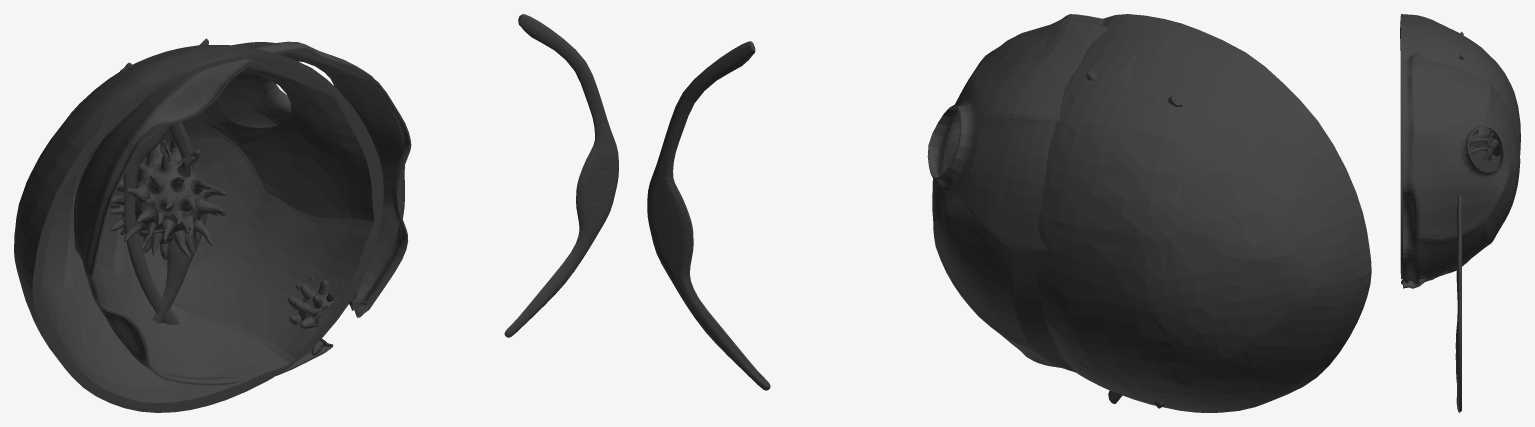
The model's file is sharedassets61.glb.
The picture shows the model from 3 angles, left to right: view 1: azimuth 30°, elevation 25°; view 2: azimuth 150°, elevation 25°; view 3: azimuth 270°, elevation 25°; orthographic projection. The views are drawn at different scales.
Visible parts, largest first — view 1: 0007_Alveolus__302534, 0003_Surfactant__302530, 0005_Type II alveolar cell__302532, 0004_Type I alveolar cell_3_302531, 0000_Type I alveolar cell_2_302527, 0001_Type I alveolar cell__302528; view 2: 0007_Alveolus__302534, 0003_Surfactant__302530, 0004_Type I alveolar cell_3_302531; view 3: 0003_Surfactant__302530, 0007_Alveolus__302534, 0004_Type I alveolar cell_3_302531, 0005_Type II alveolar cell__302532, 0002_Capillary bed__302529.
Boxes of the visible parts, x1,y1,x2,y2 form: 0007_Alveolus__302534: (14, 45, 383, 412); 0003_Surfactant__302530: (73, 41, 411, 385); 0005_Type II alveolar cell__302532: (109, 137, 226, 259); 0004_Type I alveolar cell_3_302531: (504, 14, 618, 337); 0000_Type I alveolar cell_2_302527: (123, 38, 208, 324); 0001_Type I alveolar cell__302528: (120, 62, 208, 323); 0007_Alveolus__302534: (1037, 14, 1371, 412); 0003_Surfactant__302530: (927, 14, 1107, 372); 0004_Type I alveolar cell_3_302531: (647, 41, 770, 390); 0003_Surfactant__302530: (1401, 52, 1520, 288); 0007_Alveolus__302534: (1400, 14, 1520, 279); 0004_Type I alveolar cell_3_302531: (1455, 196, 1461, 412); 0005_Type II alveolar cell__302532: (1469, 127, 1498, 160); 0002_Capillary bed__302529: (1469, 130, 1493, 157).
Bounding box in the file's own units: 2174 × 1299 × 524.
1 material, 1 textured.
